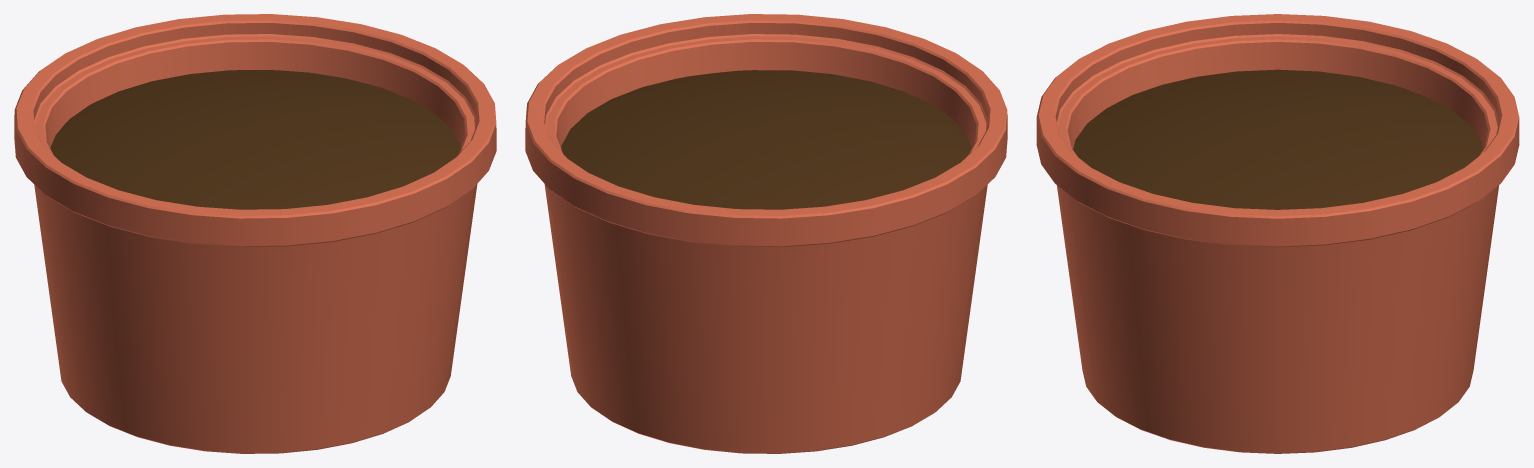
The model's file is pot.glb.
The picture shows the model from 3 angles, left to right: view 1: azimuth 30°, elevation 25°; view 2: azimuth 150°, elevation 25°; view 3: azimuth 270°, elevation 25°; orthographic projection.
Parts seen in each view (by area): view 1: Pot, Soil; view 2: Pot, Soil; view 3: Pot, Soil.
Boxes of the visible parts, x1=… form: Pot: x1=14, y1=14, x2=496, y2=453; Soil: x1=50, y1=70, x2=460, y2=209; Pot: x1=525, y1=14, x2=1007, y2=453; Soil: x1=561, y1=70, x2=971, y2=209; Pot: x1=1036, y1=14, x2=1519, y2=453; Soil: x1=1073, y1=69, x2=1482, y2=209.
Size of the model in its own units: 0.1293 by 0.076 by 0.1293.
